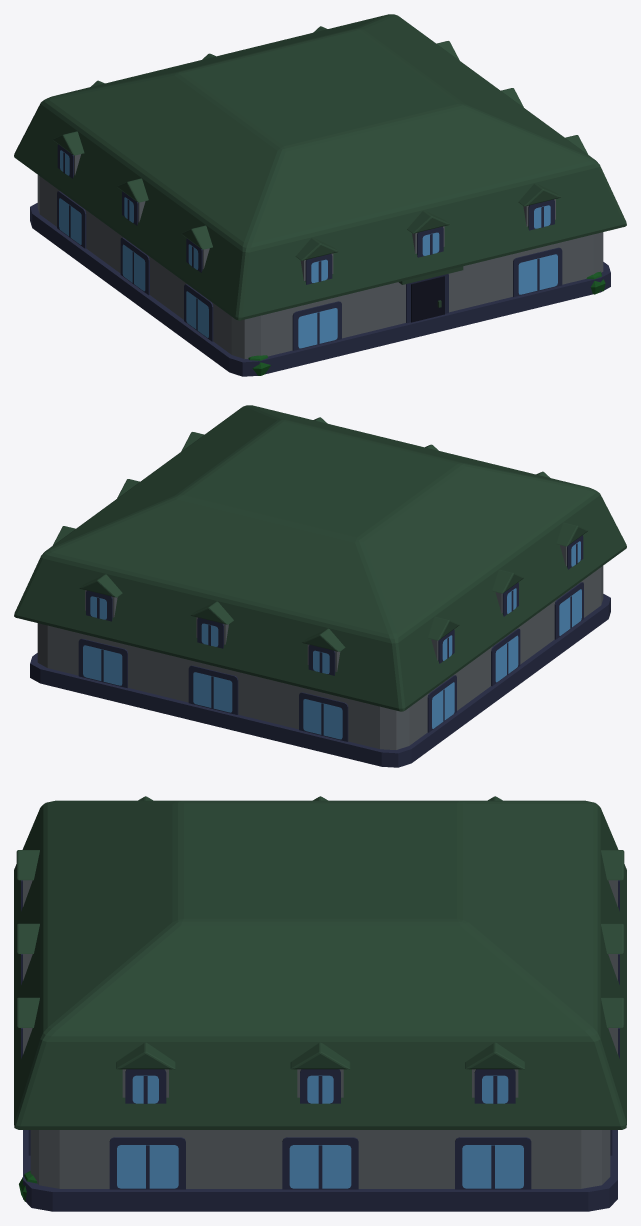
Rendered from house-2x2-1f-mansard-d.glb.
3 views of the same model, one above another, from view 1: azimuth 30°, elevation 25°; view 2: azimuth 150°, elevation 25°; view 3: azimuth 270°, elevation 25° (orthographic). The views are drawn at different scales.
Parts seen in each view (by area): view 1: house-2x2-1f-mansard-d; view 2: house-2x2-1f-mansard-d; view 3: house-2x2-1f-mansard-d.
Part boxes in pixels (box(x1,y1,x2,y2)): house-2x2-1f-mansard-d: box(14, 14, 626, 376); house-2x2-1f-mansard-d: box(14, 405, 626, 767); house-2x2-1f-mansard-d: box(14, 796, 626, 1211).
Bounding box in the file's own units: 1.99 × 0.8052 × 1.99.
Materials: 1 (1 with a texture image).
